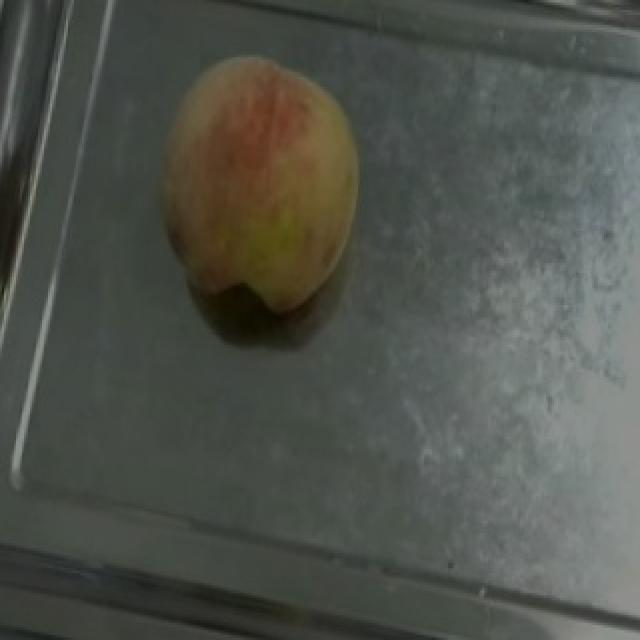Fruit: (126, 30, 384, 337)
